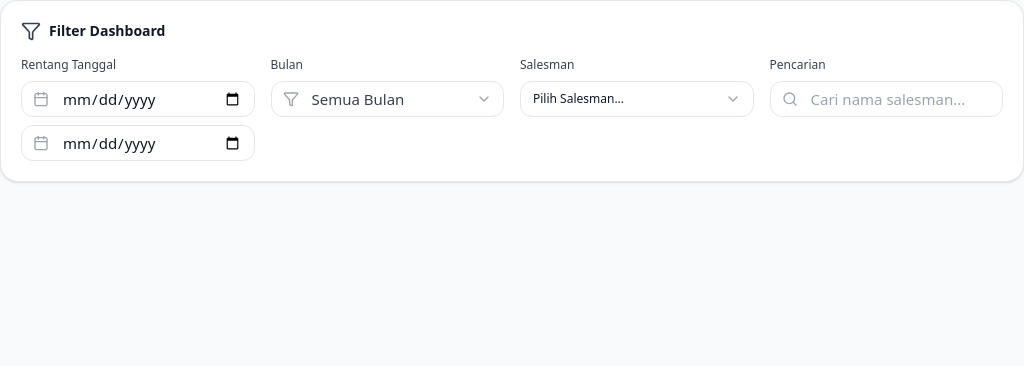
FilterBar › opens salesman dropdown when clicked
The image size is (1024, 366).
Step 1. Click the button "Pilih Salesman..." → (637, 99), box [520, 81, 754, 117]
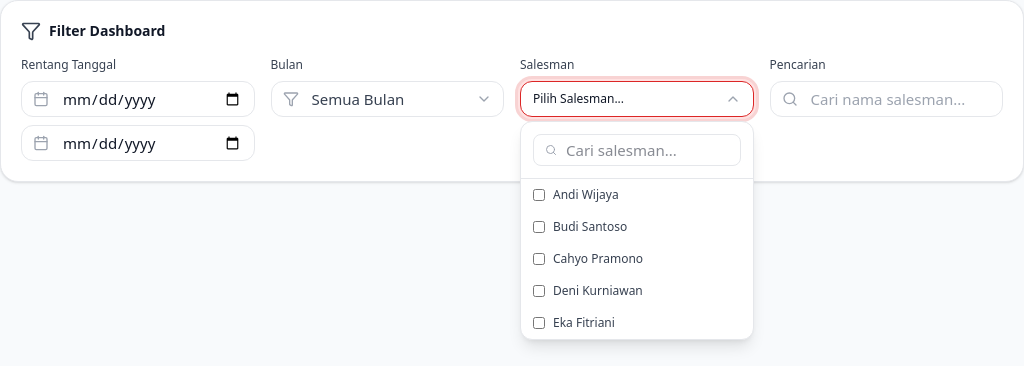
expect the field with placeholder "Cari salesman..." is shown: met, box [533, 134, 740, 166]
